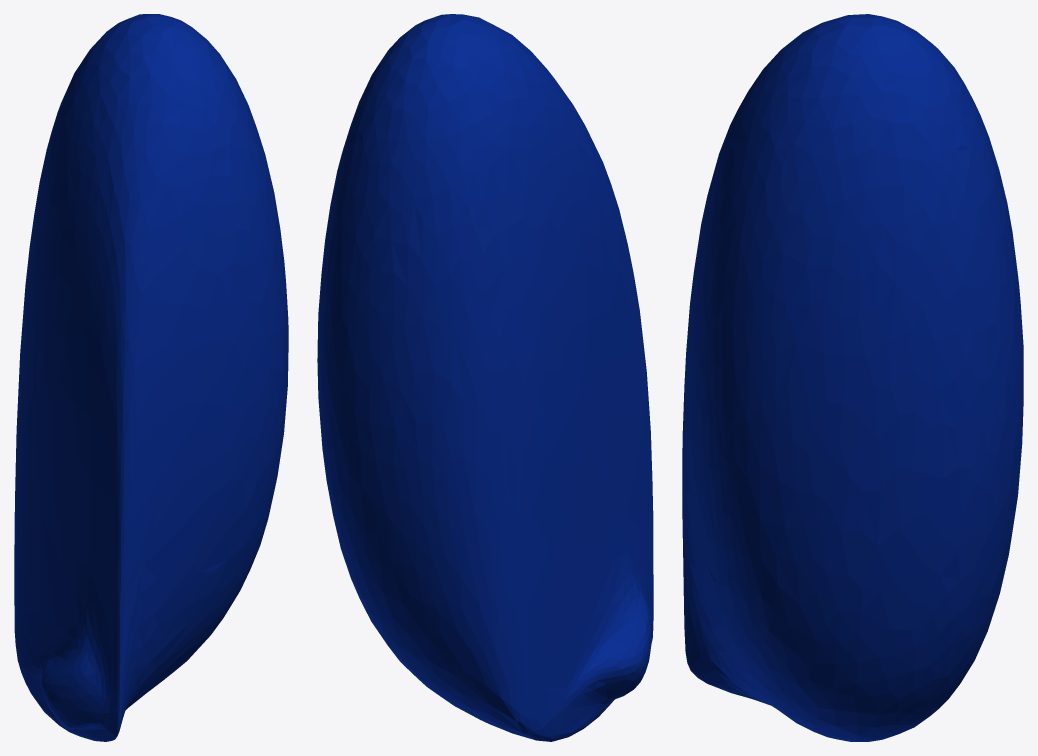
3 views of the same model, side by side, from view 1: azimuth 30°, elevation 25°; view 2: azimuth 150°, elevation 25°; view 3: azimuth 270°, elevation 25° (orthographic). The views are drawn at different scales.
Visible parts, largest first — view 1: 901_Cube.3637; view 2: 901_Cube.3637; view 3: 901_Cube.3637.
Boxes of the visible parts, bbox=[...] form: 901_Cube.3637: bbox=[14, 14, 288, 741]; 901_Cube.3637: bbox=[317, 14, 653, 741]; 901_Cube.3637: bbox=[682, 14, 1023, 741].
Size of the model in its own units: 4.28 by 10.81 by 4.44.
